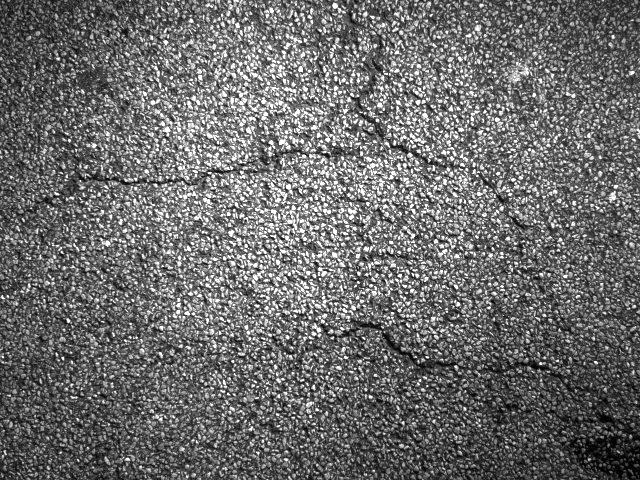crack: (18, 24, 608, 421)
